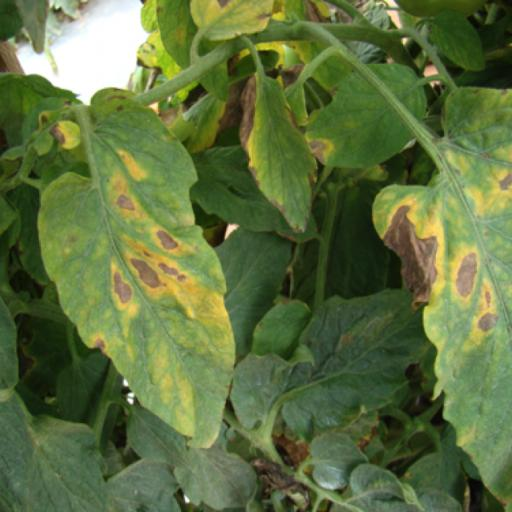disease_tomato: (39, 85, 237, 446), (372, 81, 512, 504), (237, 68, 320, 238)
